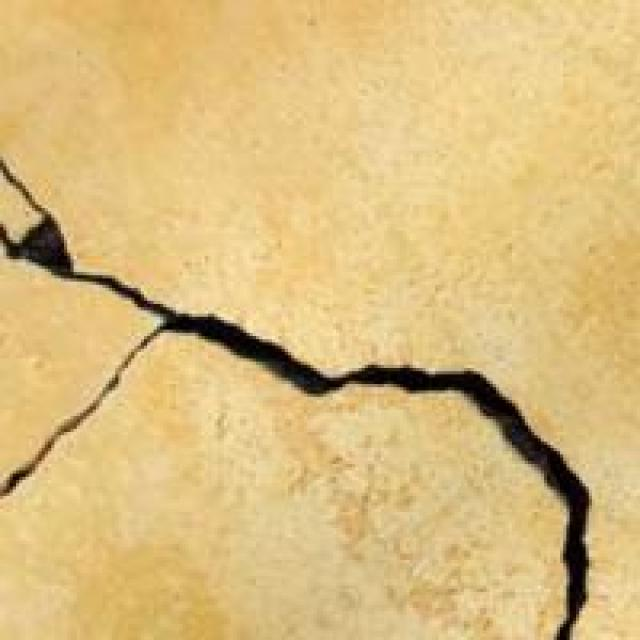Crack: (0, 147, 611, 634)
